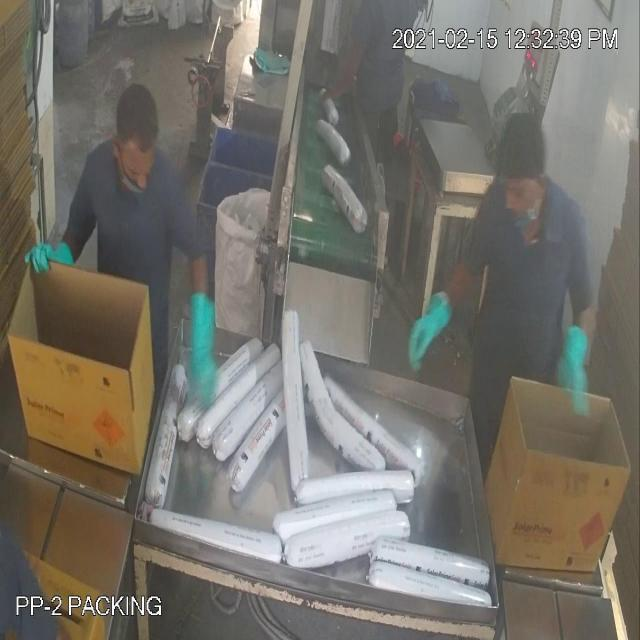Gloves: (44, 62, 571, 364)
